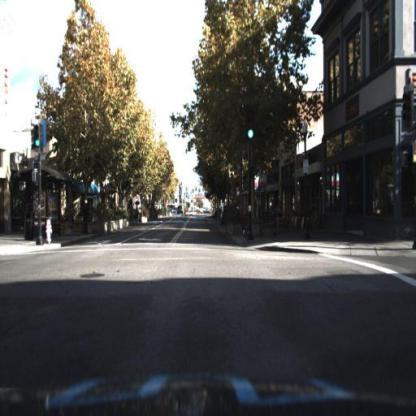pedestrian: (276, 196, 286, 231), (83, 196, 91, 239)
trafficLight: (245, 106, 258, 144)
trafficLight-Green: (33, 119, 43, 150)
